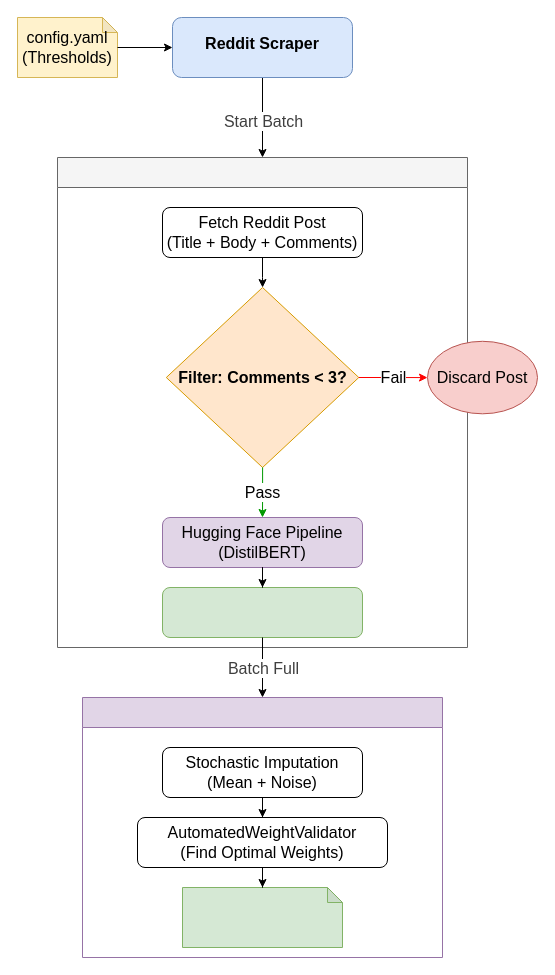
The diagram is 555 pixels wide and 975 high, and some of its shapes have lost their labels. The shapes that lost their labels are listed below. From the top down, each one's box as (x1, y1, x2, y2) in pixels, then its label:
(56, 156, 468, 648): ACQUISITION LOOP (Per Post)
(162, 586, 362, 638): Normalize Score (Section D Formula)
(82, 696, 442, 958): BATCH REFINEMENT
(182, 886, 342, 948): Save CSV (raw_data_x.csv)
